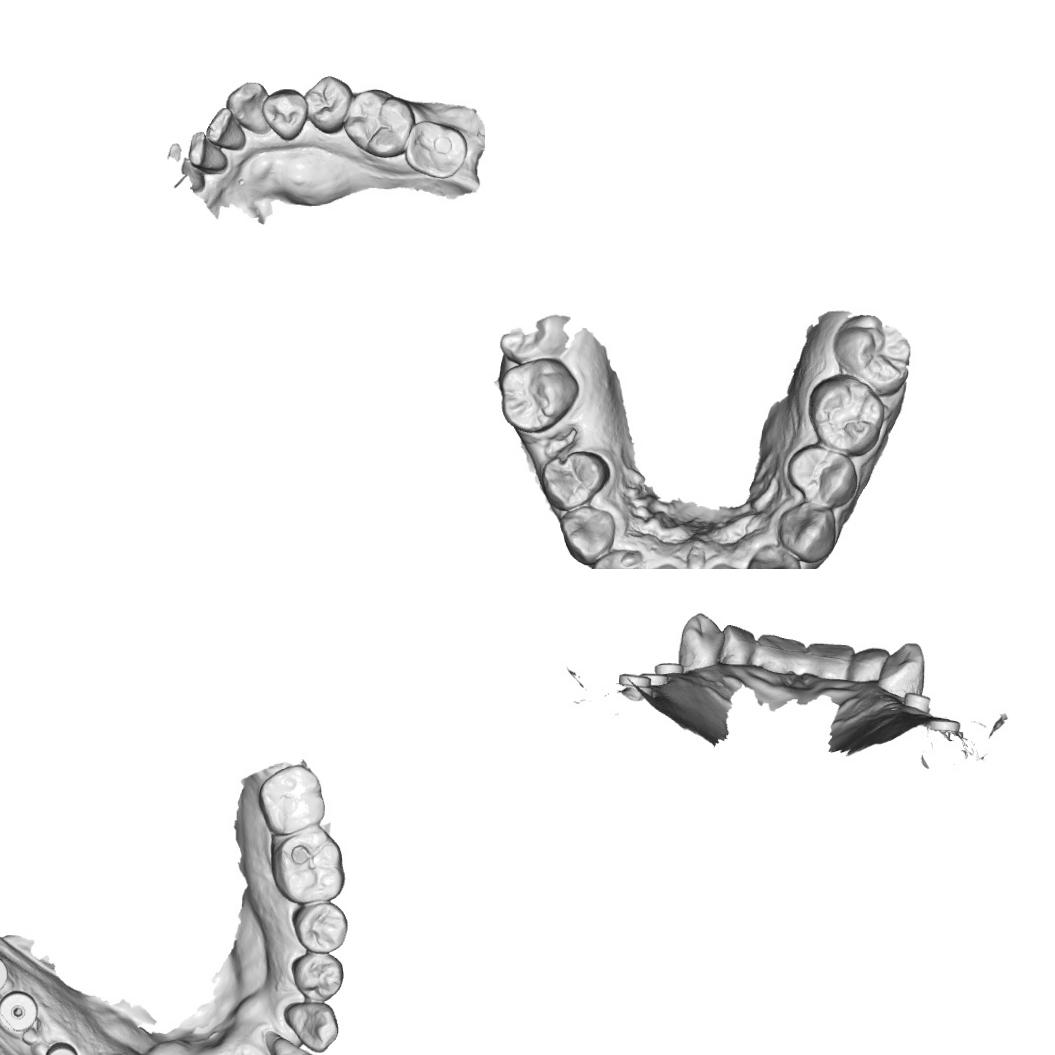canine: (777, 502, 837, 563), (558, 504, 616, 567), (282, 1000, 344, 1052), (224, 80, 274, 136), (878, 640, 927, 697), (677, 610, 726, 665)
implant: (0, 989, 39, 1033), (926, 714, 962, 733), (901, 691, 933, 712), (614, 671, 652, 688), (653, 661, 684, 678), (640, 671, 670, 688), (43, 1041, 79, 1055)
incisor: (752, 632, 809, 677), (804, 640, 856, 680), (204, 106, 248, 150), (187, 131, 230, 173), (847, 645, 891, 685), (720, 622, 756, 668), (746, 543, 800, 569), (589, 547, 644, 569), (270, 1037, 327, 1055)
molar: (832, 310, 912, 398), (496, 355, 582, 436), (808, 376, 883, 452), (271, 830, 346, 904), (342, 87, 416, 159), (256, 763, 327, 836), (402, 119, 469, 180)
premolar: (538, 448, 613, 511), (787, 444, 860, 506), (302, 74, 352, 136), (292, 902, 348, 954), (290, 951, 344, 1002), (260, 87, 308, 142)
